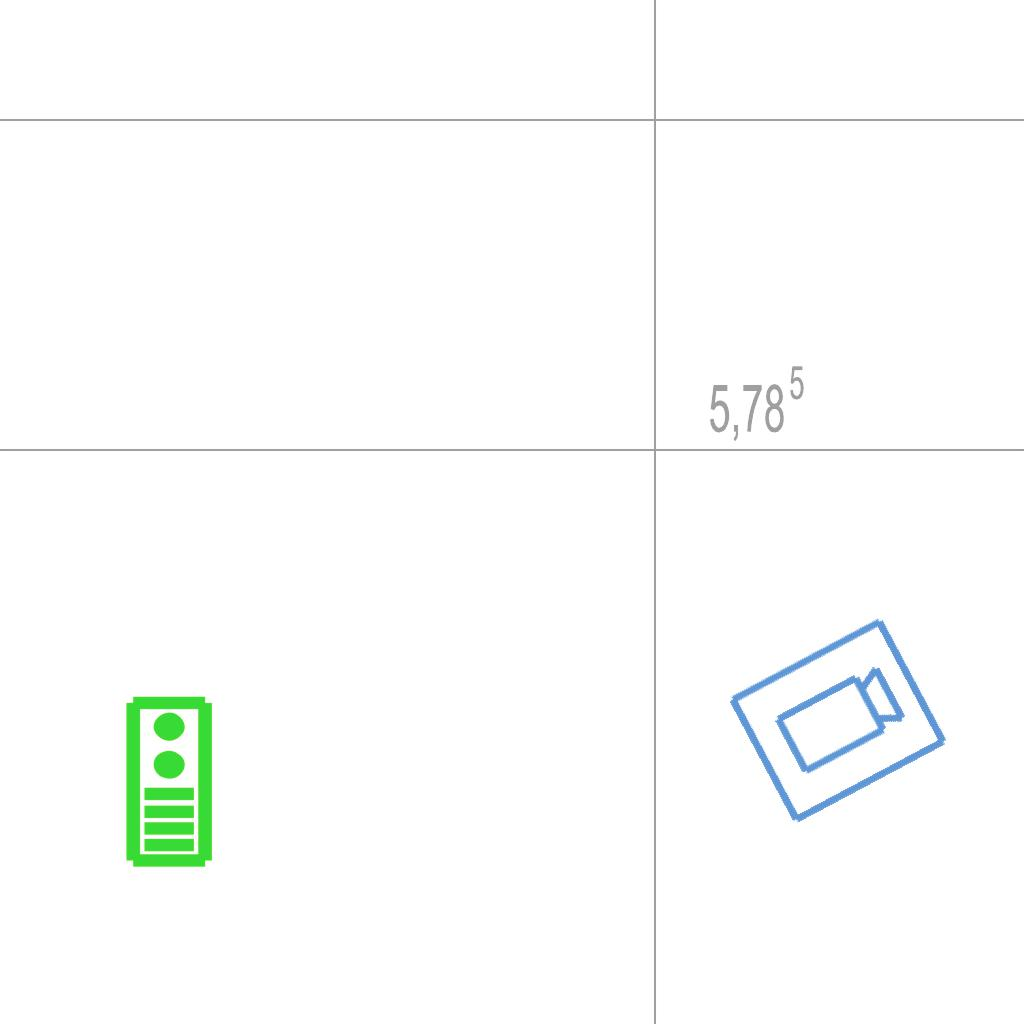Gegensprechanlage_mit_Video: (120, 693, 215, 869)
KFO_Kamera_mit_Festobjektiv: (721, 611, 955, 833)
